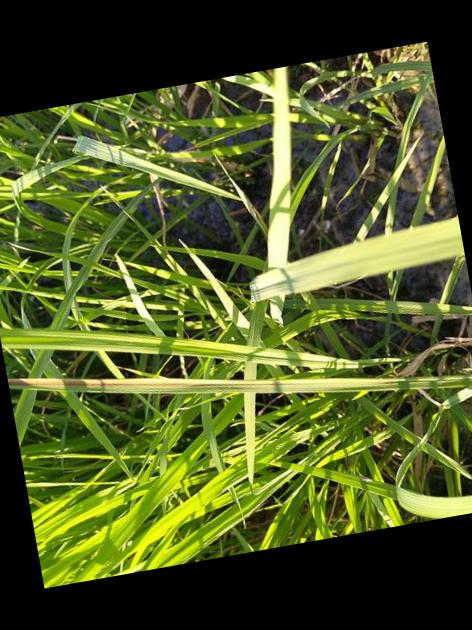Leaf Streak: (8, 378, 321, 394)
